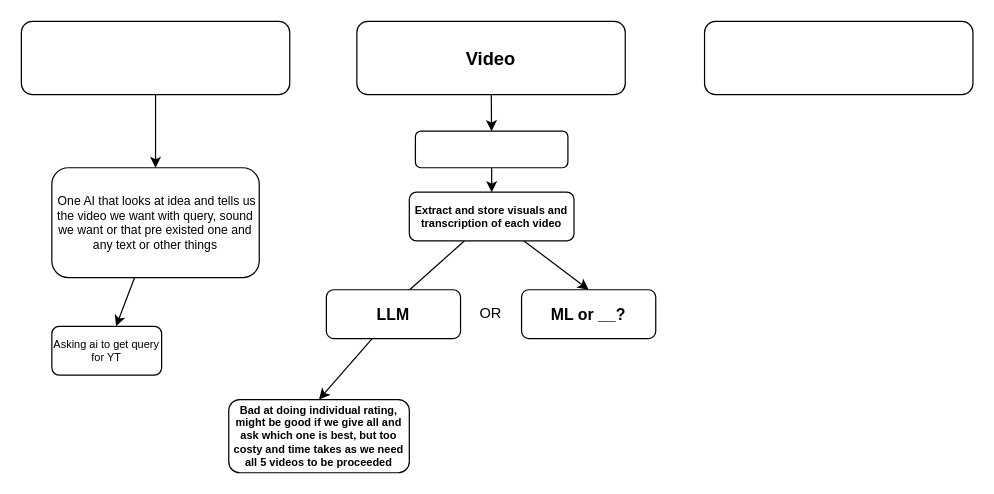
Image size: 994x494. Some labels were removed from this diagram. Here are the shapes that lost their labels. From the top down, the box of each, then its label:
(20, 20, 290, 95): Manager
(703, 20, 973, 95): Audio
(414, 130, 568, 168): Search and Downloadin top 5 YT video
